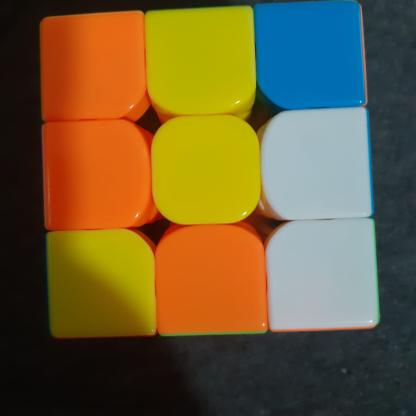cube: (36, 0, 388, 346)
